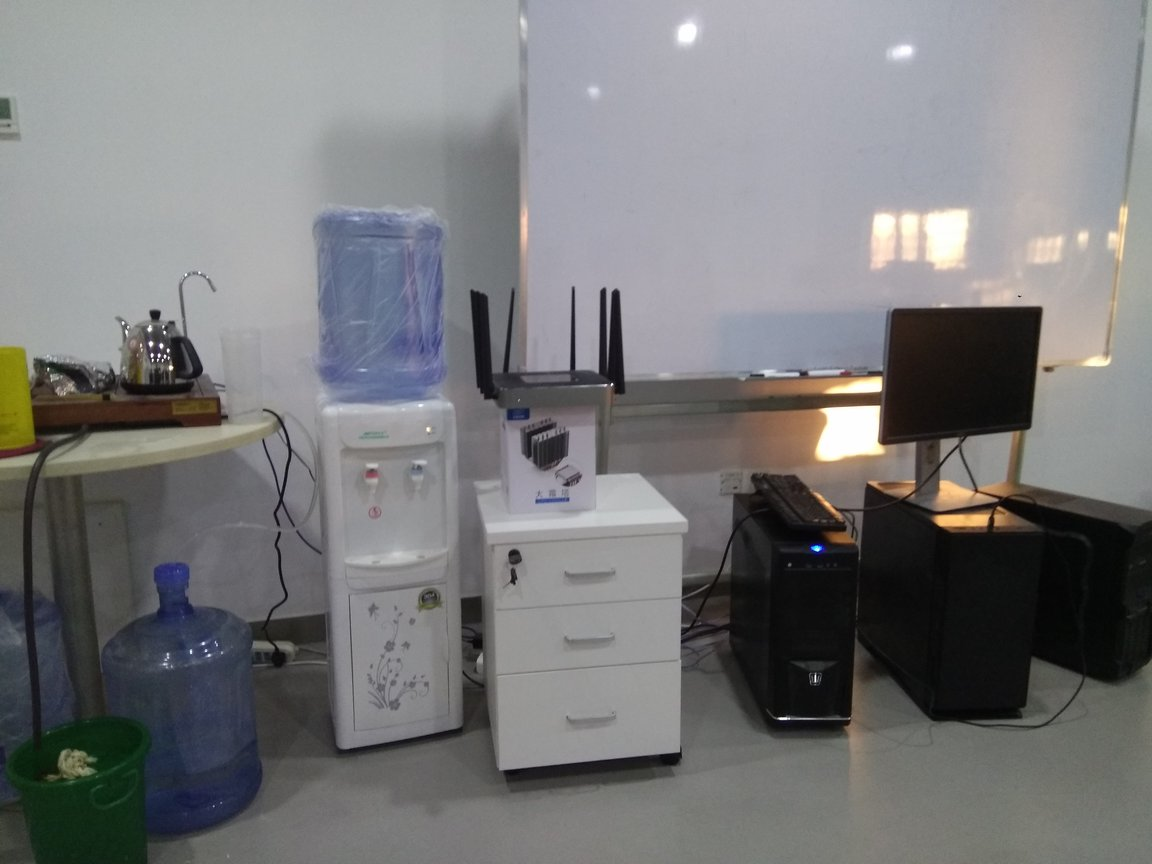computer: (867, 480, 1028, 728), (983, 475, 1152, 687), (731, 487, 864, 743)
drawer chest: (470, 471, 690, 774)
monitor: (883, 301, 1040, 513)
scuttlebutt: (104, 562, 263, 834), (305, 200, 452, 390), (1, 584, 80, 801)
water dispenser: (310, 383, 467, 748)
